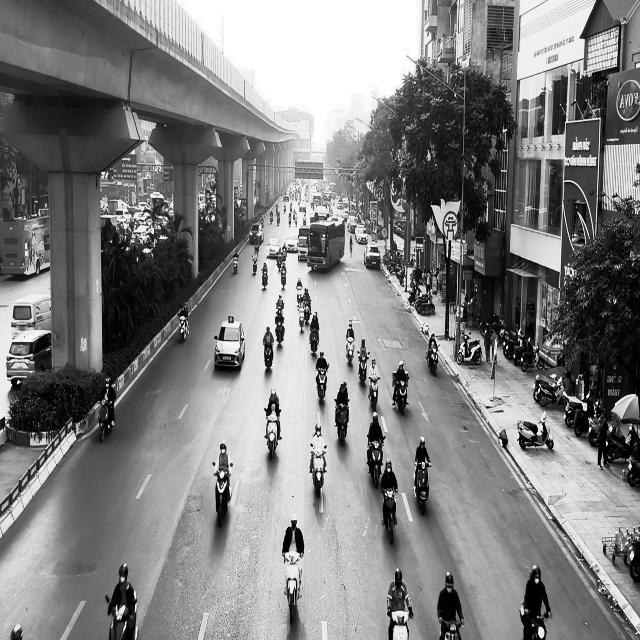bus: (0, 209, 51, 277), (307, 216, 346, 271)
car: (6, 329, 52, 386), (214, 316, 246, 370), (364, 242, 381, 268), (266, 237, 281, 258), (249, 223, 264, 244), (286, 233, 299, 252)
motorbike: (105, 594, 139, 640), (283, 551, 304, 623), (517, 411, 554, 450), (213, 461, 233, 527), (520, 604, 552, 640), (413, 459, 432, 515), (381, 486, 399, 544), (367, 434, 386, 488), (310, 443, 327, 497), (457, 331, 482, 365), (388, 608, 414, 640), (264, 408, 280, 459), (392, 371, 410, 415), (98, 398, 115, 442), (335, 398, 350, 446), (439, 618, 464, 640), (316, 366, 329, 404), (368, 376, 381, 411), (427, 342, 440, 377), (358, 350, 370, 385), (178, 311, 189, 343), (275, 317, 285, 347), (264, 341, 274, 370), (346, 337, 355, 366), (310, 328, 320, 353), (298, 305, 306, 332), (262, 264, 268, 289), (281, 263, 287, 288), (233, 251, 239, 274), (252, 252, 258, 274)
